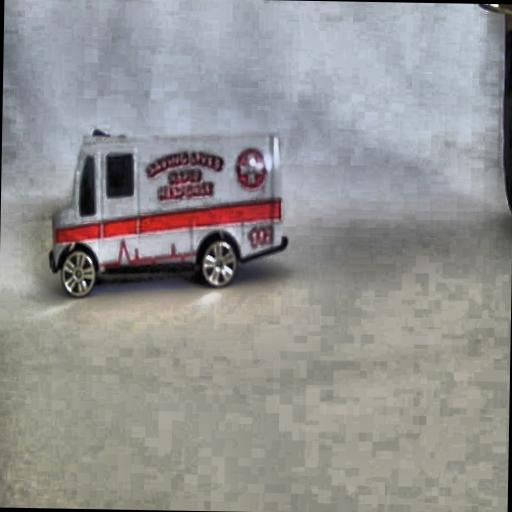ambulance: (47, 128, 289, 301)
